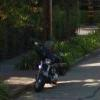Motorcycle: (28, 50, 64, 93)
